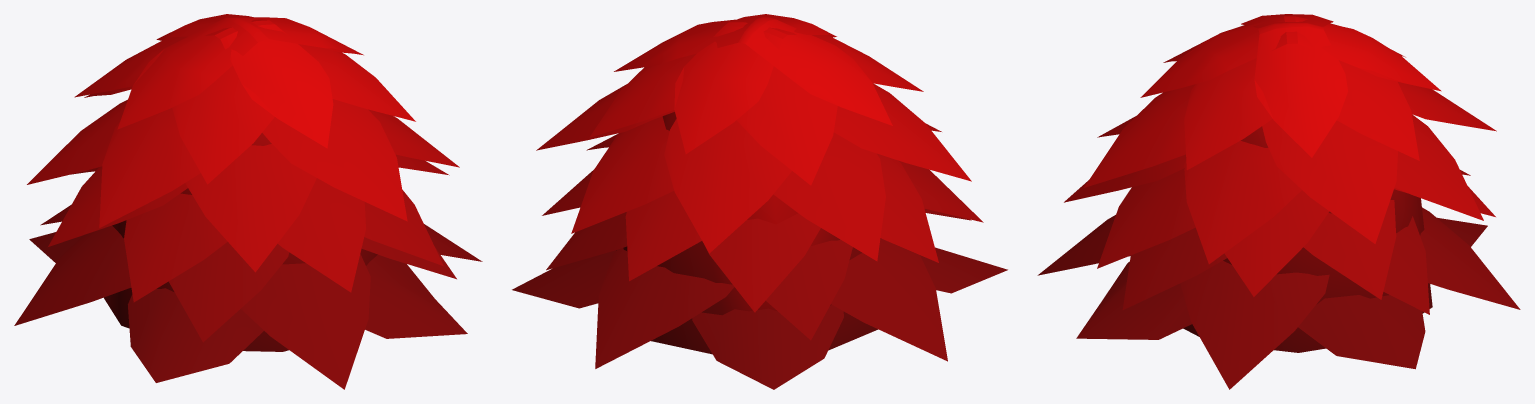
The model's file is Bush_Leafy.fbx.
The picture shows the model from 3 angles, left to right: view 1: azimuth 30°, elevation 25°; view 2: azimuth 150°, elevation 25°; view 3: azimuth 270°, elevation 25°; orthographic projection.
Parts seen in each view (by area): view 1: Bush_Leafy; view 2: Bush_Leafy; view 3: Bush_Leafy.
Part boxes in pixels (x1,y1,x2,y2): Bush_Leafy: (14, 14, 482, 389); Bush_Leafy: (512, 14, 1007, 389); Bush_Leafy: (1037, 14, 1520, 389).
Bounding box in the file's own units: 99.15 × 99.88 × 60.86.
